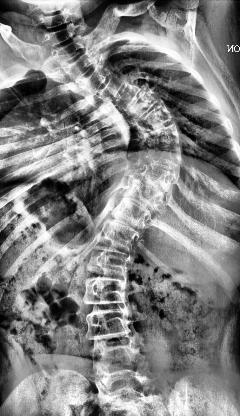Vertebrae: (88, 336, 144, 376), (88, 245, 138, 281), (85, 304, 134, 340), (123, 179, 171, 215), (96, 218, 139, 254), (110, 198, 154, 233), (85, 276, 135, 306), (133, 100, 175, 134), (140, 160, 180, 193), (141, 124, 183, 154), (140, 144, 180, 174), (73, 64, 108, 96), (110, 81, 144, 113), (124, 90, 160, 120), (51, 39, 87, 67), (62, 52, 96, 80), (94, 72, 125, 100), (42, 26, 76, 48)
